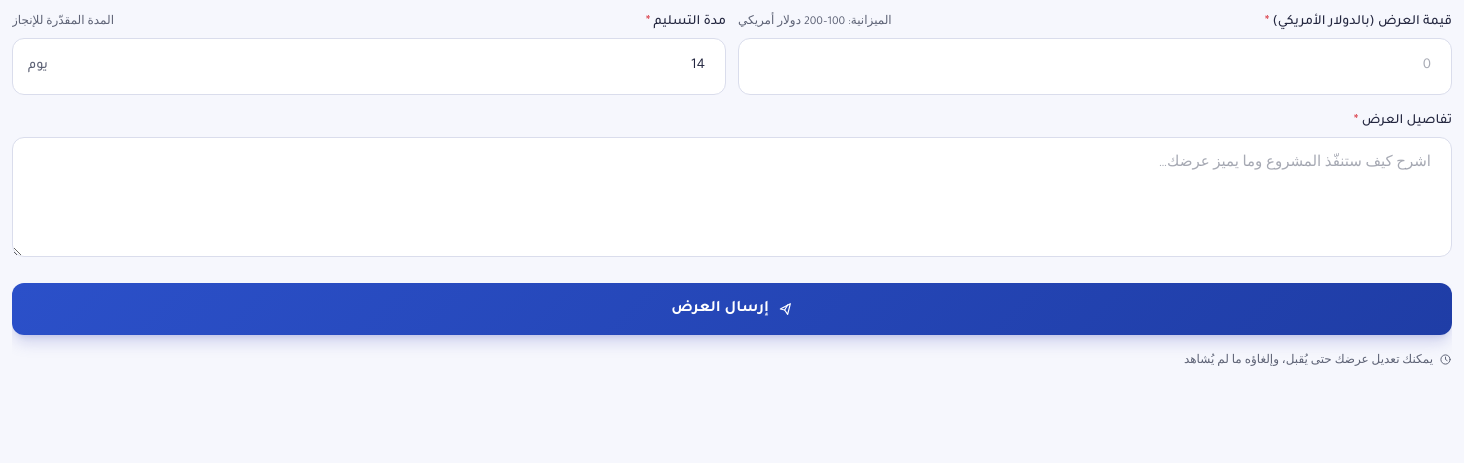
Test case: ProposalForm — client-side budget/delivery validation (P2-09 / P2-08) › blocks a budget below budget_min and never POSTs
Type "50" into the field labelled "قيمة العرض" at point(1095, 66), box [738, 38, 1452, 94]
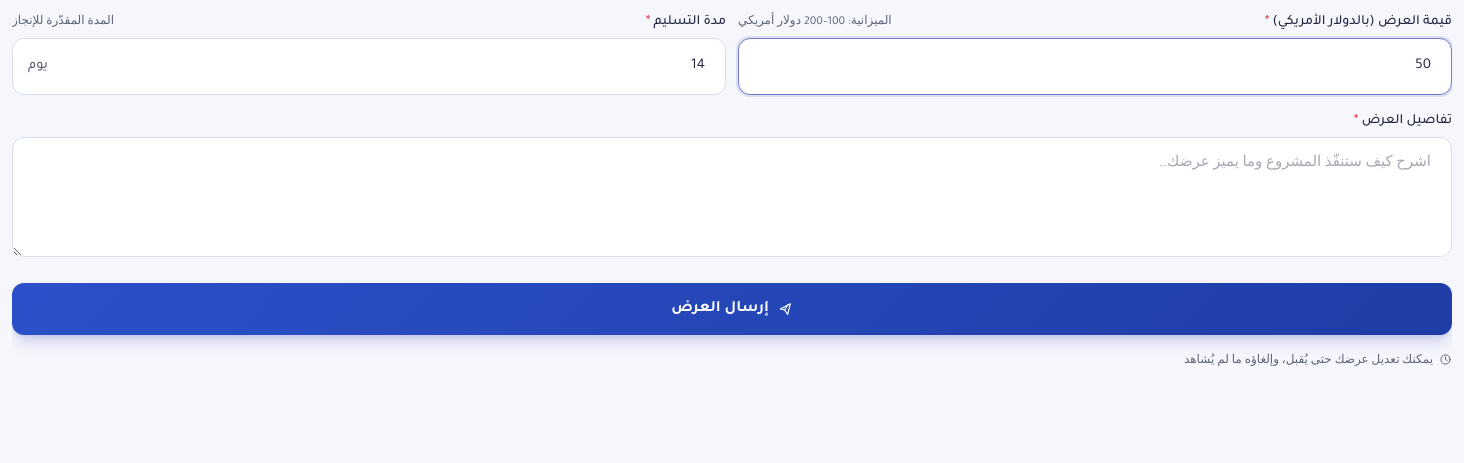
Type "خطة العمل" into the text box labelled "تفاصيل العرض *" at point(732, 196), box [12, 136, 1452, 256]
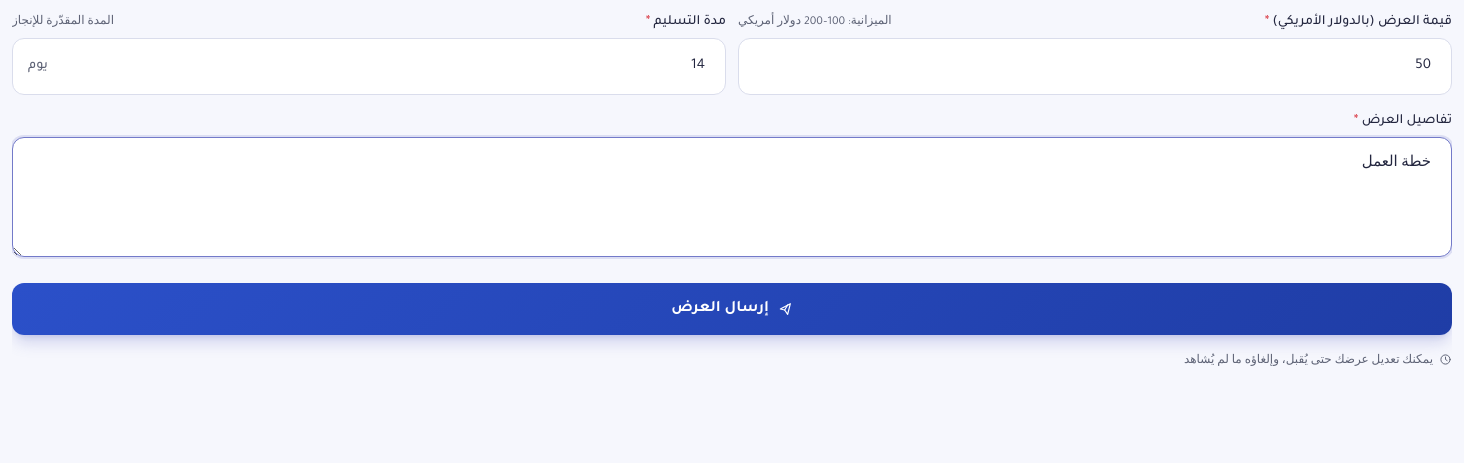
Click the button "إرسال العرض" at point(732, 308), box [12, 282, 1452, 334]
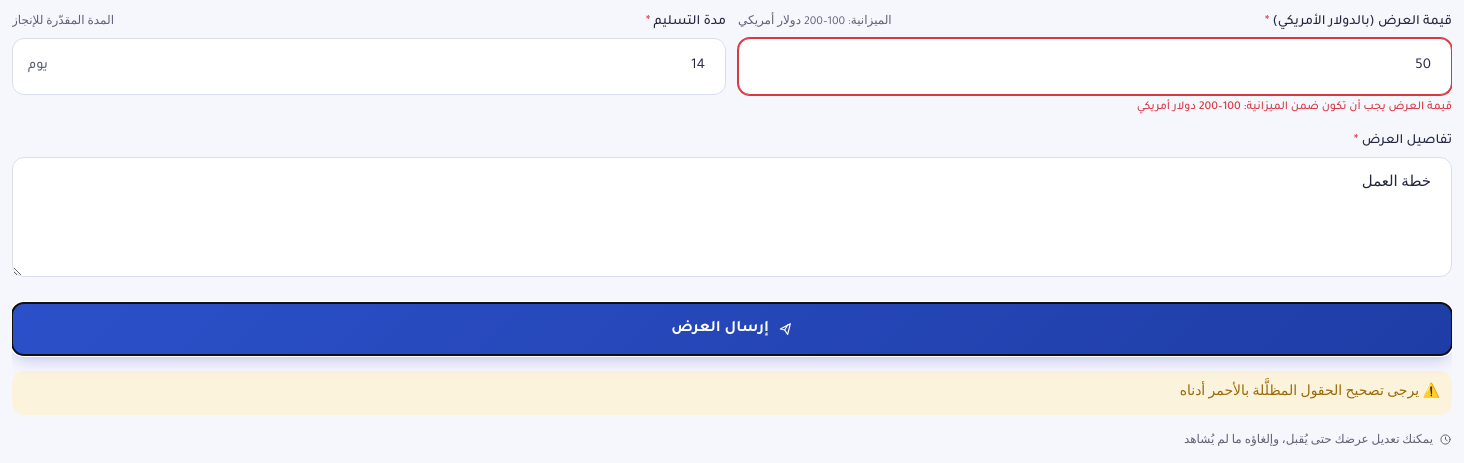
Check: the text "قيمة العرض يجب أن تكون ضمن الميزانية: 100–200 دولار أمريكي" is shown, box [1137, 100, 1452, 112]
